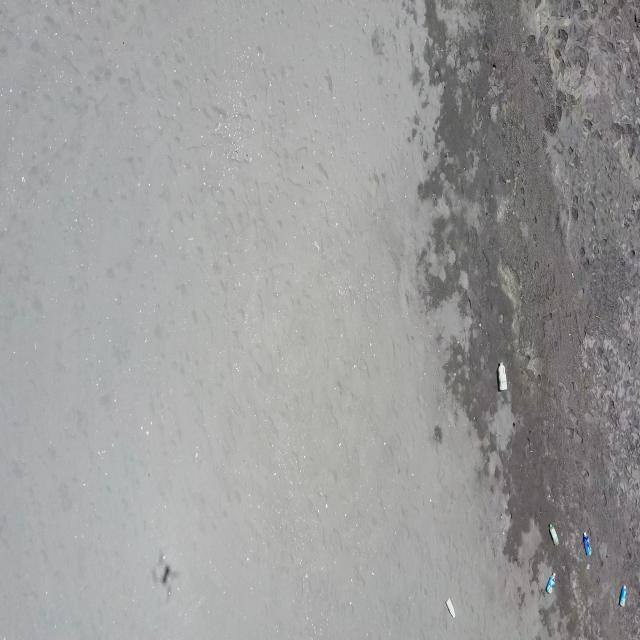Garbage: (497, 364, 507, 390), (548, 523, 557, 544), (583, 532, 591, 555), (546, 572, 555, 592), (619, 584, 626, 606), (447, 598, 455, 617)
